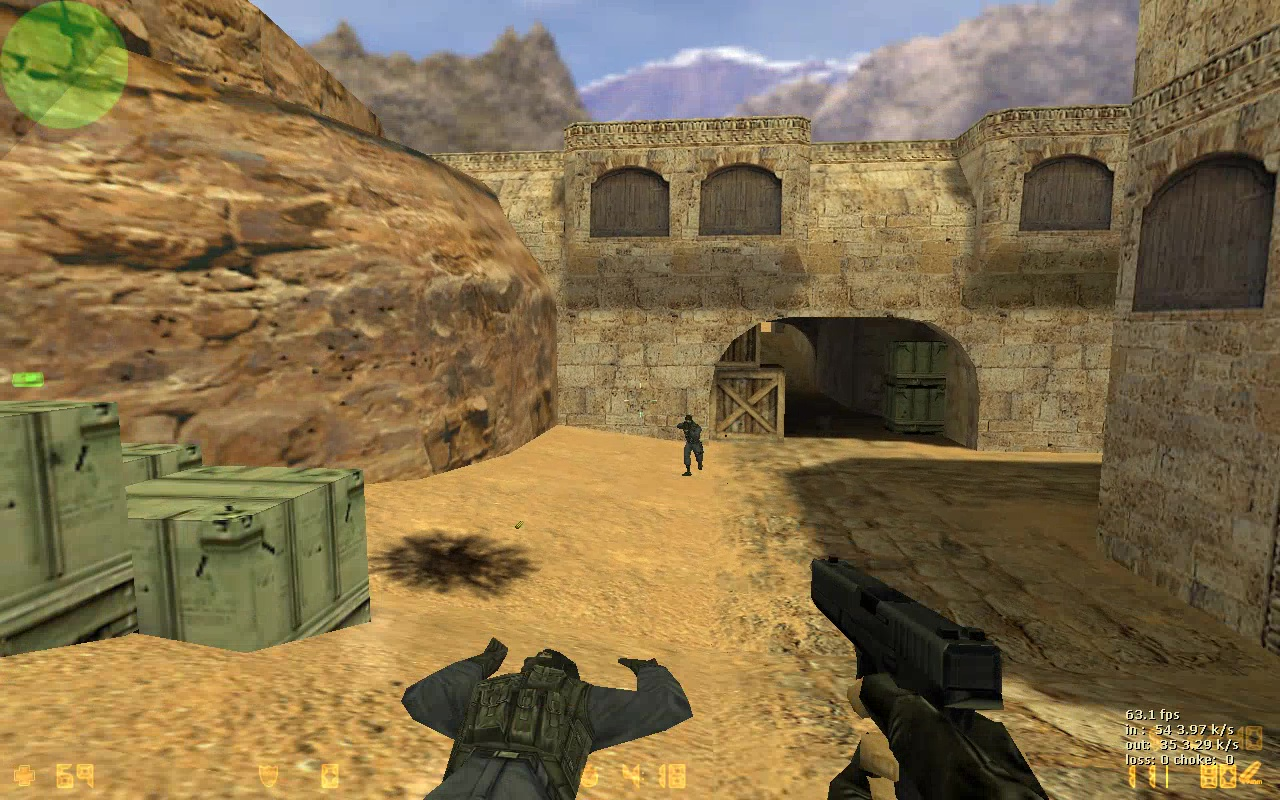ct: (679, 417, 708, 479)
dead: (392, 635, 701, 800)
